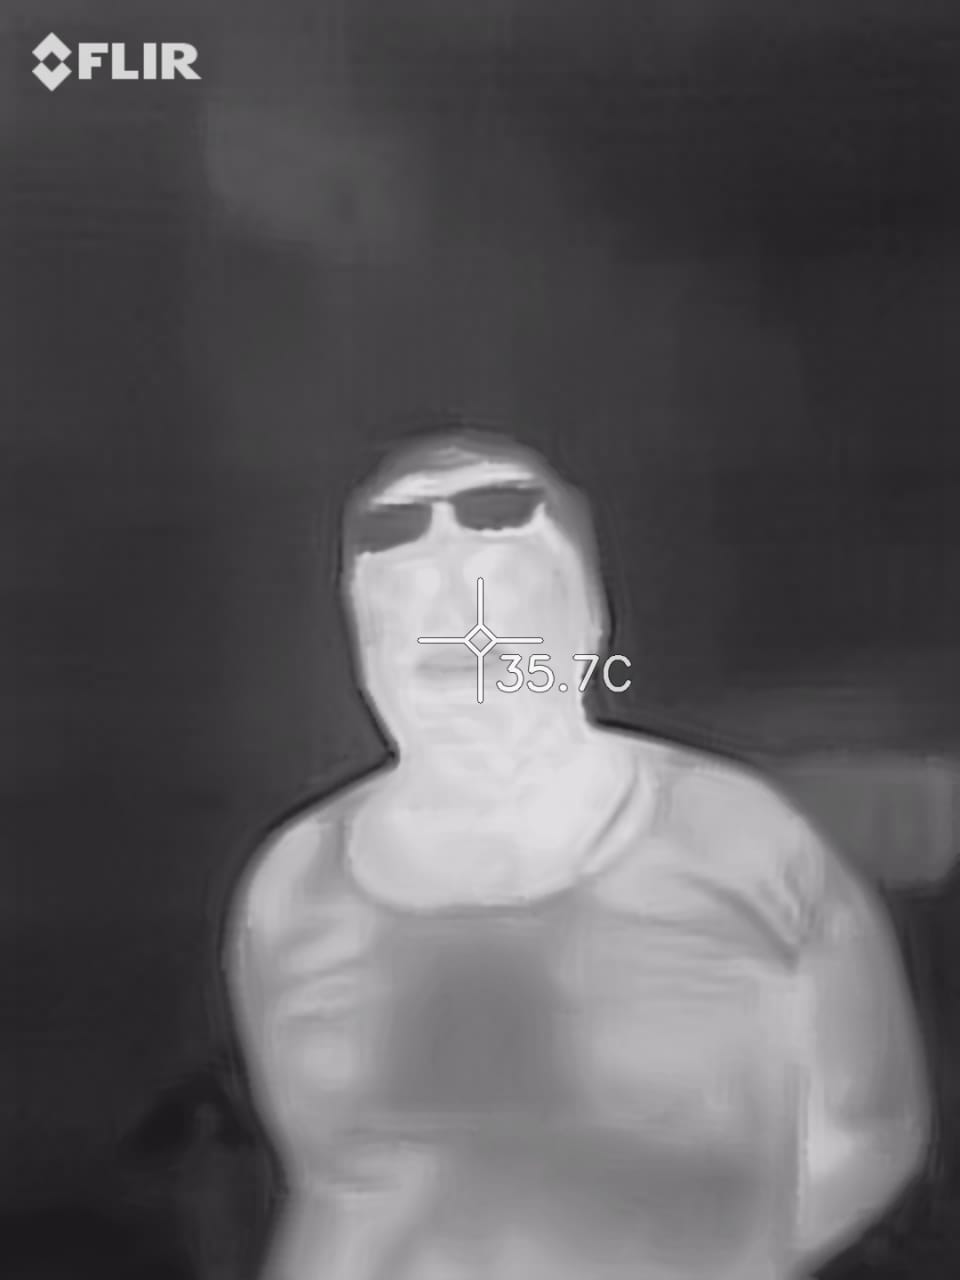head: (318, 406, 638, 802)
